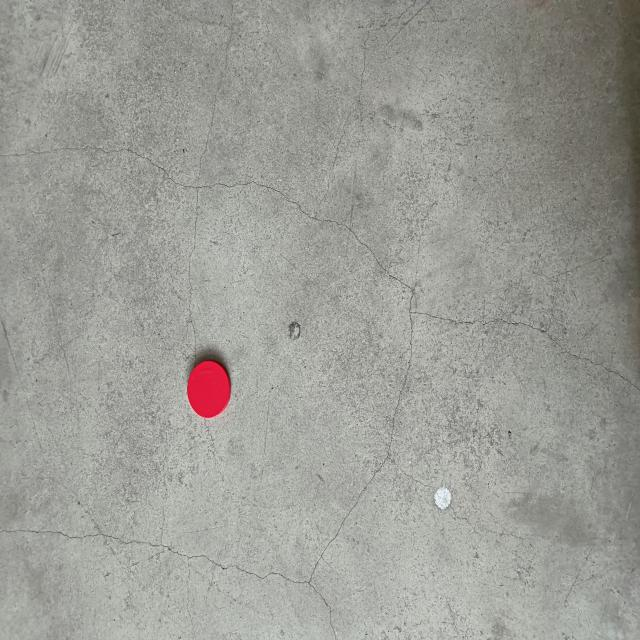chip: (183, 348, 234, 423)
